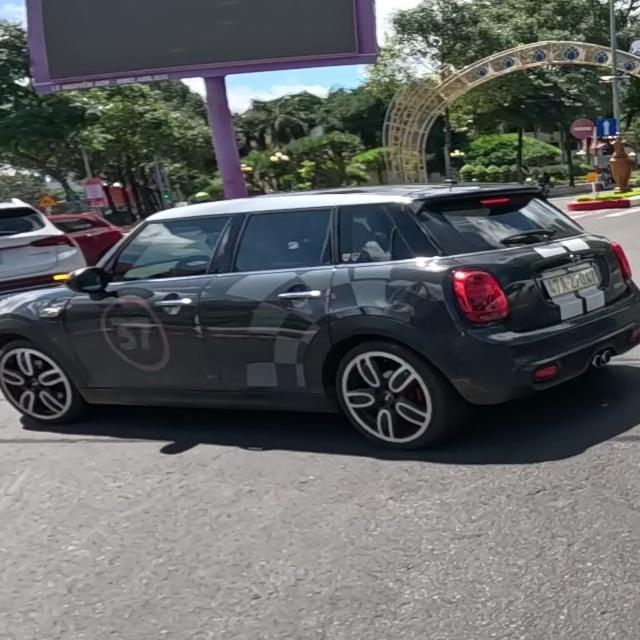license-plate: (542, 265, 602, 299)
